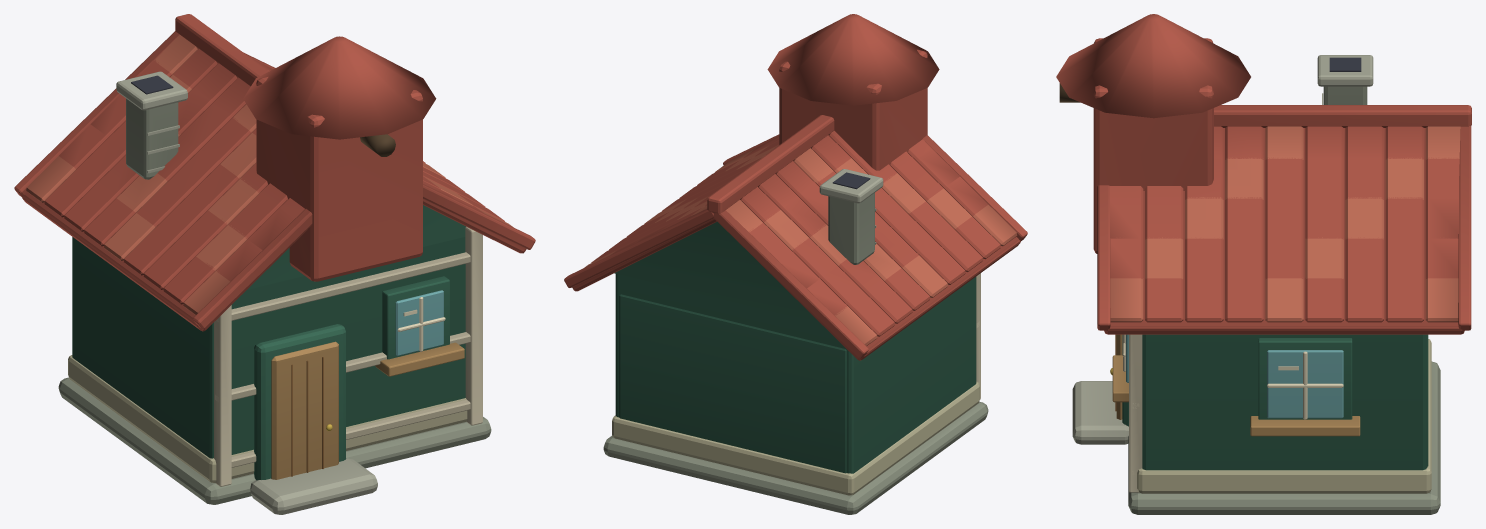
File: house_windmill.glb
The picture shows the model from 3 angles, left to right: view 1: azimuth 30°, elevation 25°; view 2: azimuth 150°, elevation 25°; view 3: azimuth 270°, elevation 25°; orthographic projection. The views are drawn at different scales.
Visible parts, largest first — view 1: house_windmill; view 2: house_windmill; view 3: house_windmill.
Part boxes in pixels (bbox=[...]): house_windmill: bbox=[14, 14, 535, 514]; house_windmill: bbox=[564, 14, 1027, 514]; house_windmill: bbox=[1056, 14, 1471, 514].
Size of the model in its own units: 2.26 by 2.73 by 2.39.
